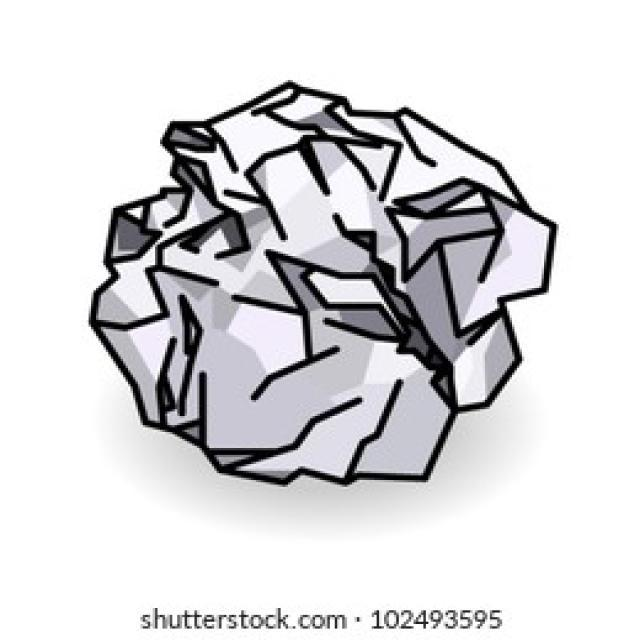Paper: (86, 80, 559, 489)
